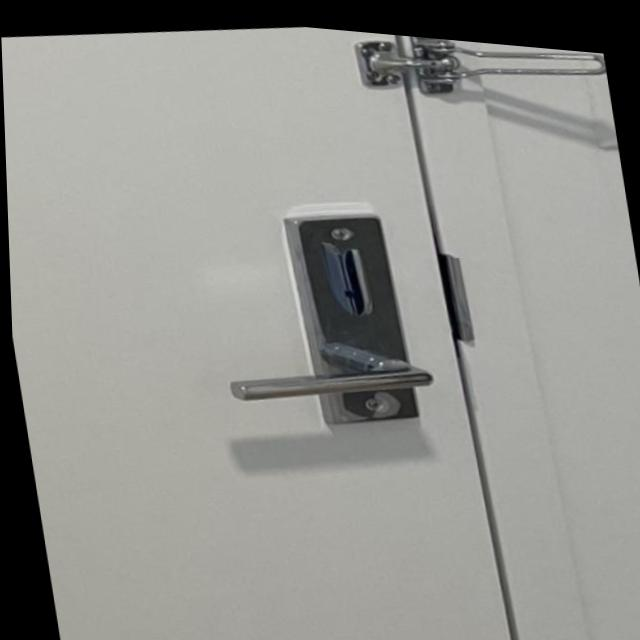door_handle: (206, 301, 459, 441)
